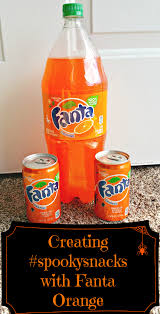fanta: (47, 11, 102, 197), (95, 153, 130, 219), (25, 161, 61, 220)
